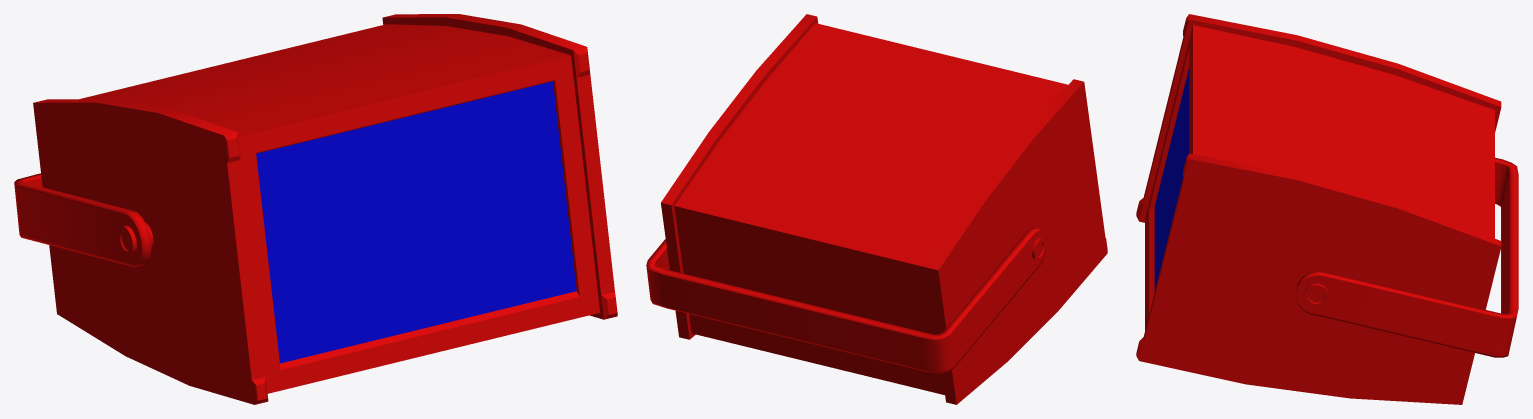
File: StrobeLight-Non-Volumetric.fbx
The picture shows the model from 3 angles, left to right: view 1: azimuth 30°, elevation 25°; view 2: azimuth 150°, elevation 25°; view 3: azimuth 270°, elevation 25°; orthographic projection. The views are drawn at different scales.
Parts seen in each view (by area): view 1: StrobeLight-Non-Volumetric; view 2: StrobeLight-Non-Volumetric; view 3: StrobeLight-Non-Volumetric.
Part boxes in pixels (x1,y1,x2,y2): StrobeLight-Non-Volumetric: [14, 14, 617, 404]; StrobeLight-Non-Volumetric: [646, 14, 1107, 404]; StrobeLight-Non-Volumetric: [1136, 14, 1518, 404].
Bounding box in the file's own units: 0.3692 × 0.2623 × 0.3693.
